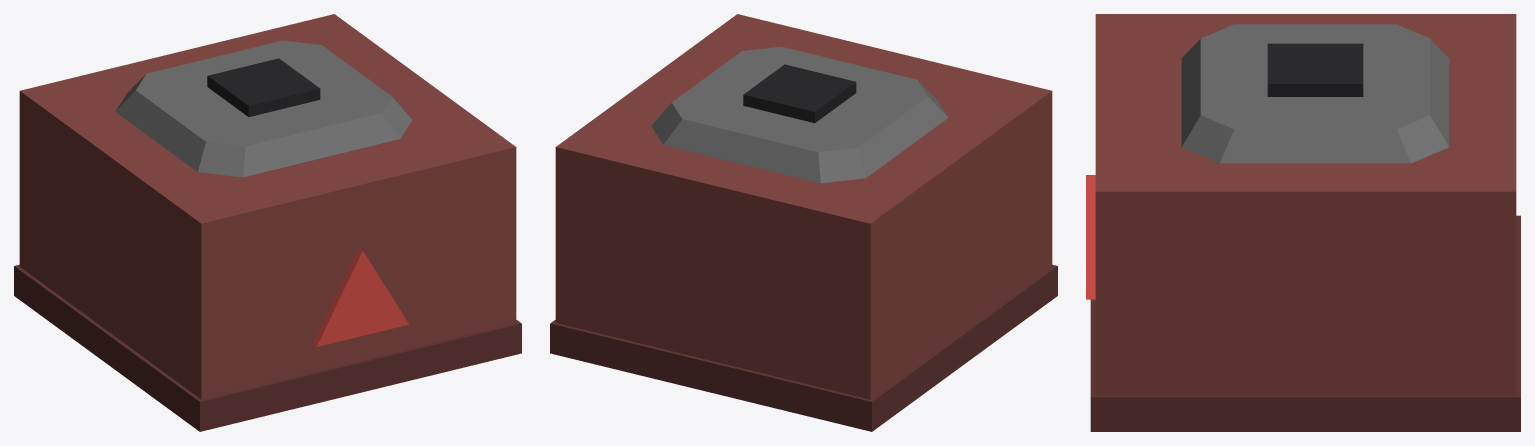
File: oc_mining_charge.obj
3 views of the same model, side by side, from view 1: azimuth 30°, elevation 25°; view 2: azimuth 150°, elevation 25°; view 3: azimuth 270°, elevation 25° (orthographic). The views are drawn at different scales.
Parts seen in each view (by area): view 1: oc_mining_charge_0, oc_mining_charge_2, oc_mining_charge_1, oc_mining_charge_4, oc_mining_charge_3; view 2: oc_mining_charge_0, oc_mining_charge_2, oc_mining_charge_1, oc_mining_charge_3; view 3: oc_mining_charge_0, oc_mining_charge_2, oc_mining_charge_1, oc_mining_charge_3, oc_mining_charge_4.
Part boxes in pixels (x1,y1,x2,y2): oc_mining_charge_0: (19,14,516,399); oc_mining_charge_2: (115,40,411,177); oc_mining_charge_1: (14,264,521,431); oc_mining_charge_4: (312,248,409,346); oc_mining_charge_3: (207,58,320,116); oc_mining_charge_0: (555,14,1052,399); oc_mining_charge_2: (651,46,948,183); oc_mining_charge_1: (550,264,1057,431); oc_mining_charge_3: (743,64,856,123); oc_mining_charge_0: (1095,14,1516,395); oc_mining_charge_2: (1181,24,1449,163); oc_mining_charge_1: (1090,215,1520,431); oc_mining_charge_3: (1267,43,1363,96); oc_mining_charge_4: (1086,175,1095,299).
Bounding box in the file's own units: 0.9 × 0.64 × 0.91.
